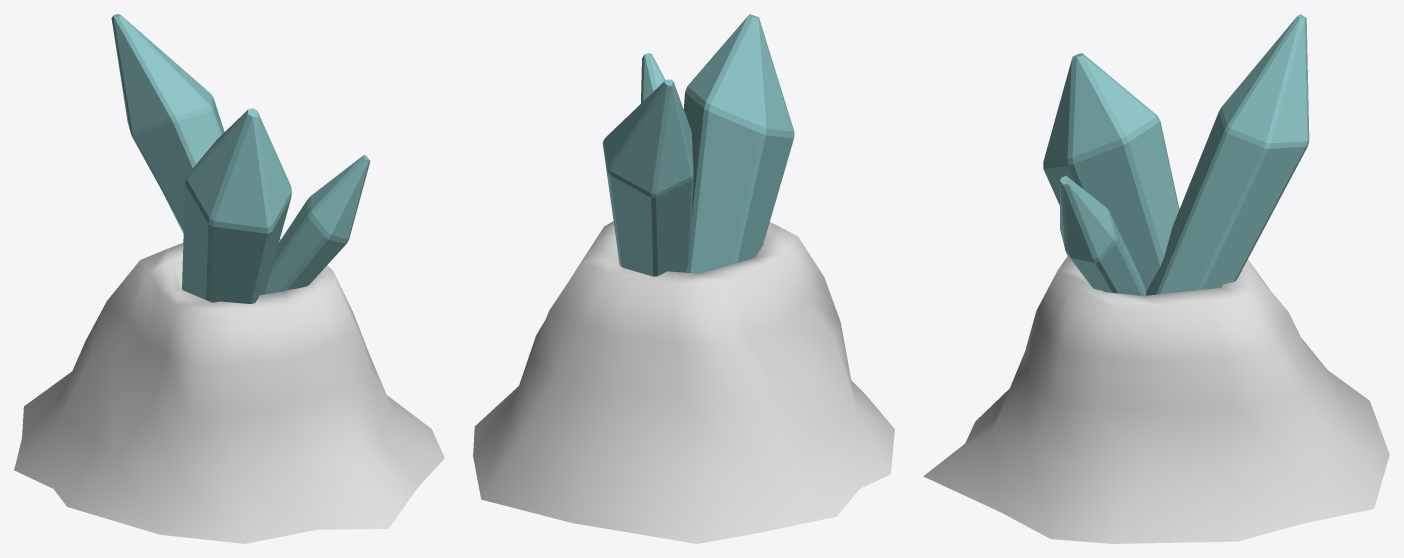
The model's file is upgrade-ores.fbx.
The picture shows the model from 3 angles, left to right: view 1: azimuth 30°, elevation 25°; view 2: azimuth 150°, elevation 25°; view 3: azimuth 270°, elevation 25°; orthographic projection. The views are drawn at different scales.
Visible parts, largest first — view 1: ore-rock, crystal-ore; view 2: ore-rock, crystal-ore; view 3: ore-rock, crystal-ore.
Boxes of the visible parts, <box> form: ore-rock: <box>14,239,444,543</box>; crystal-ore: <box>111,14,370,303</box>; ore-rock: <box>473,221,894,543</box>; crystal-ore: <box>602,14,794,276</box>; ore-rock: <box>923,256,1389,543</box>; crystal-ore: <box>1043,14,1309,295</box>.
Size of the model in its own units: 403 by 442 by 444.
